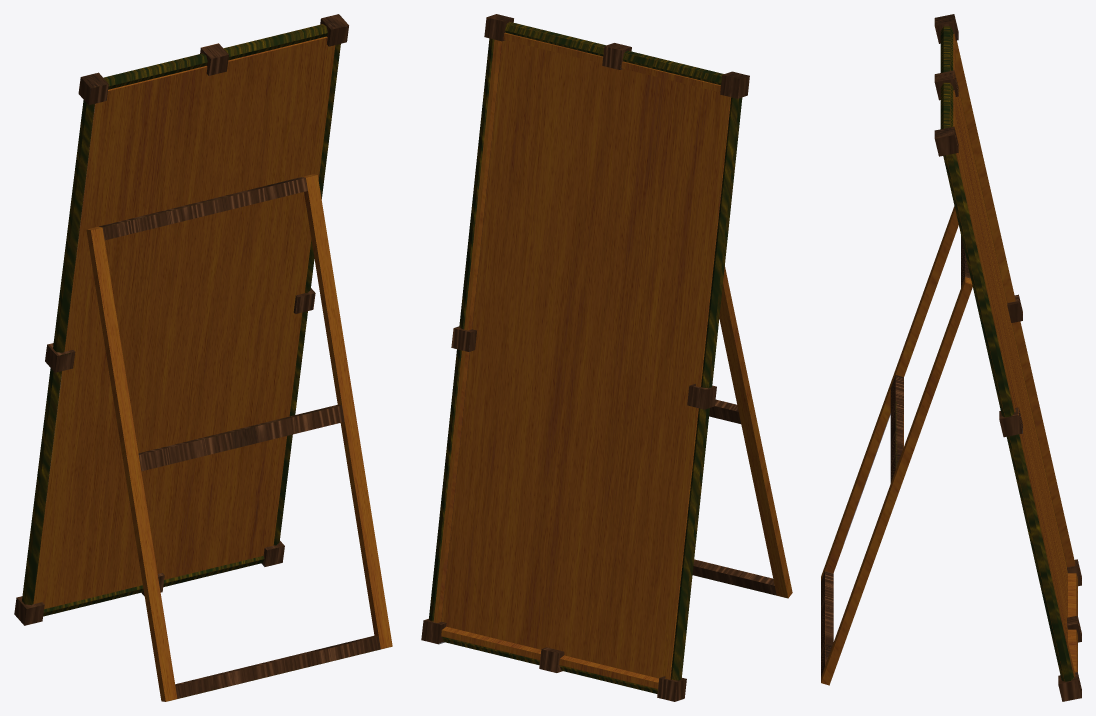
The model's file is Mirror.fbx.
3 renders of one model, left to right at view 1: azimuth 30°, elevation 25°; view 2: azimuth 150°, elevation 25°; view 3: azimuth 270°, elevation 25°, orthographic. The views are drawn at different scales.
Visible parts, largest first — view 1: Mirror; view 2: Mirror; view 3: Mirror.
Boxes of the visible parts, x1,y1,x2,y2 form: Mirror: [14, 14, 392, 701]; Mirror: [421, 14, 792, 701]; Mirror: [821, 14, 1081, 701].
Size of the model in its own units: 111 by 242 by 101.
